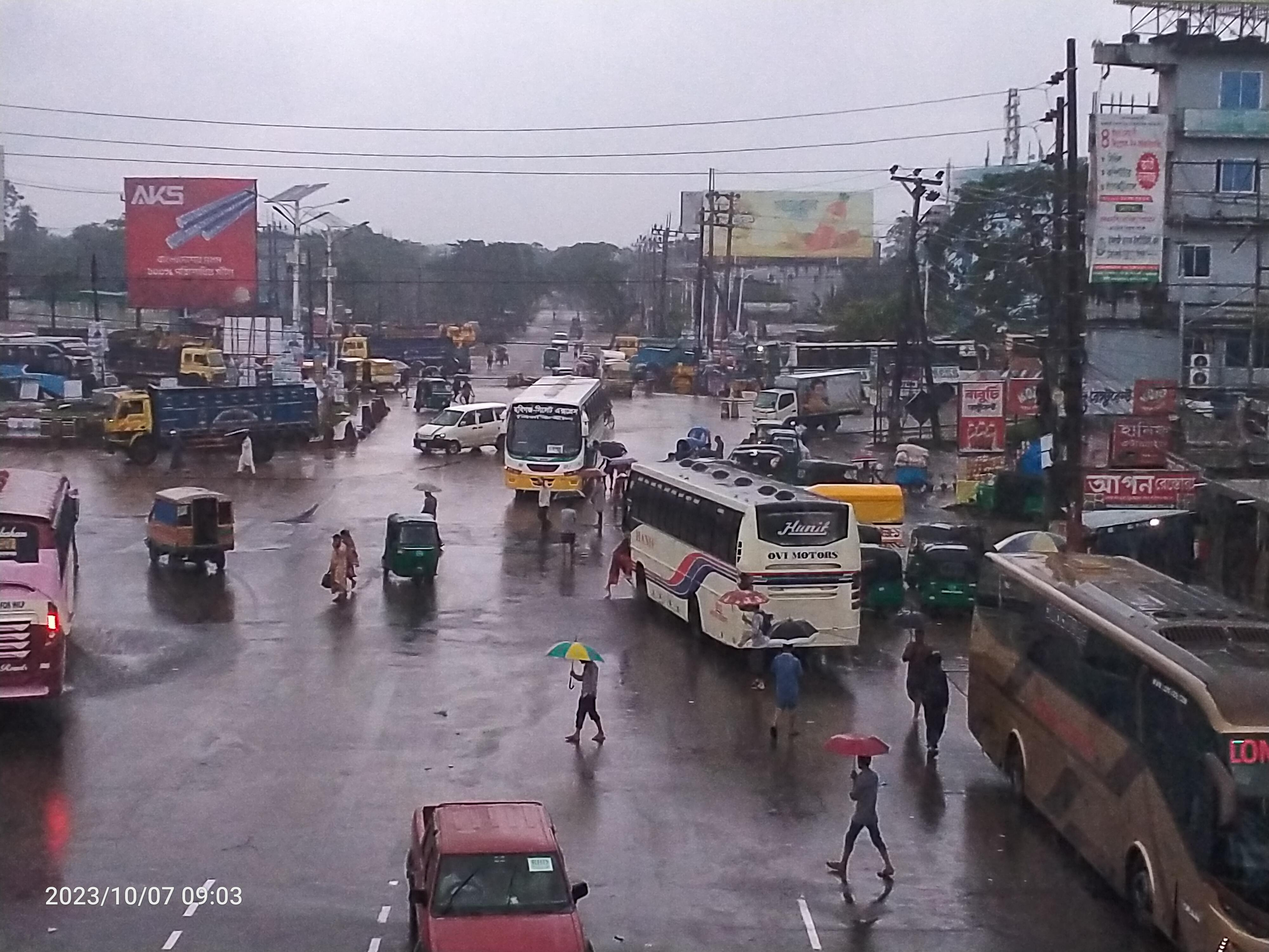Bus: (938, 524, 1269, 950), (597, 442, 888, 689), (0, 459, 98, 736), (506, 350, 627, 532), (0, 317, 94, 409)
Car: (365, 770, 616, 952), (141, 473, 260, 597), (390, 393, 526, 474)
Truck: (69, 366, 332, 493), (743, 352, 893, 438), (103, 325, 236, 400), (337, 323, 458, 382)
